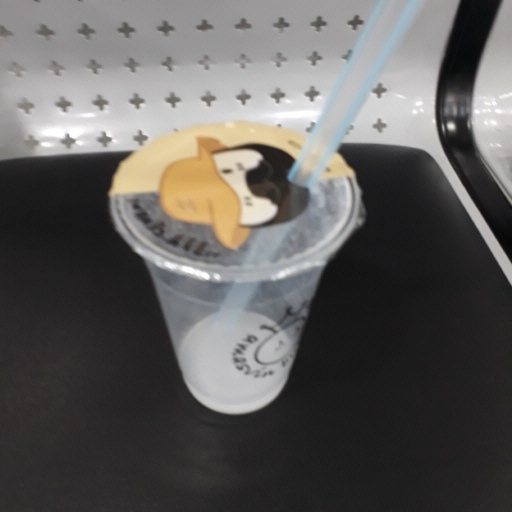Plastic_2: (104, 3, 417, 407)
